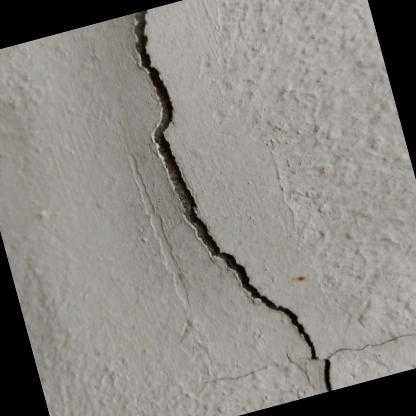crack: (131, 9, 335, 392)
